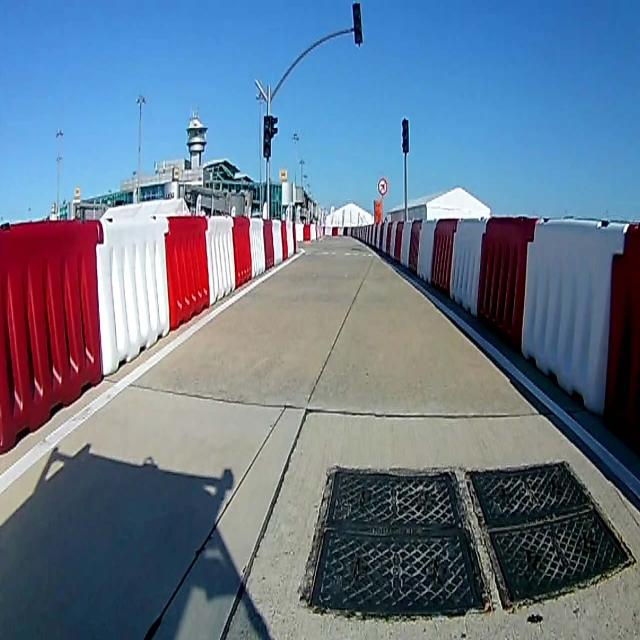soladonulmez: (378, 177, 388, 196)
